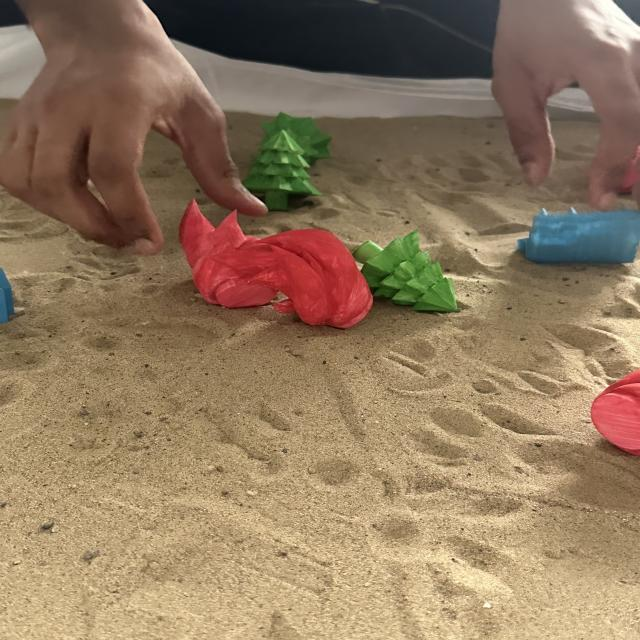fire: (174, 195, 280, 307), (266, 229, 376, 327), (590, 368, 640, 459)
house: (514, 203, 638, 267)
tree: (352, 228, 462, 312), (240, 127, 321, 212), (254, 114, 341, 162)
